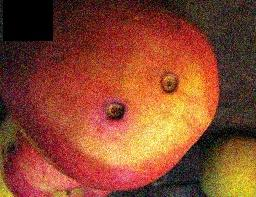rotten apple: (1, 3, 222, 196)
